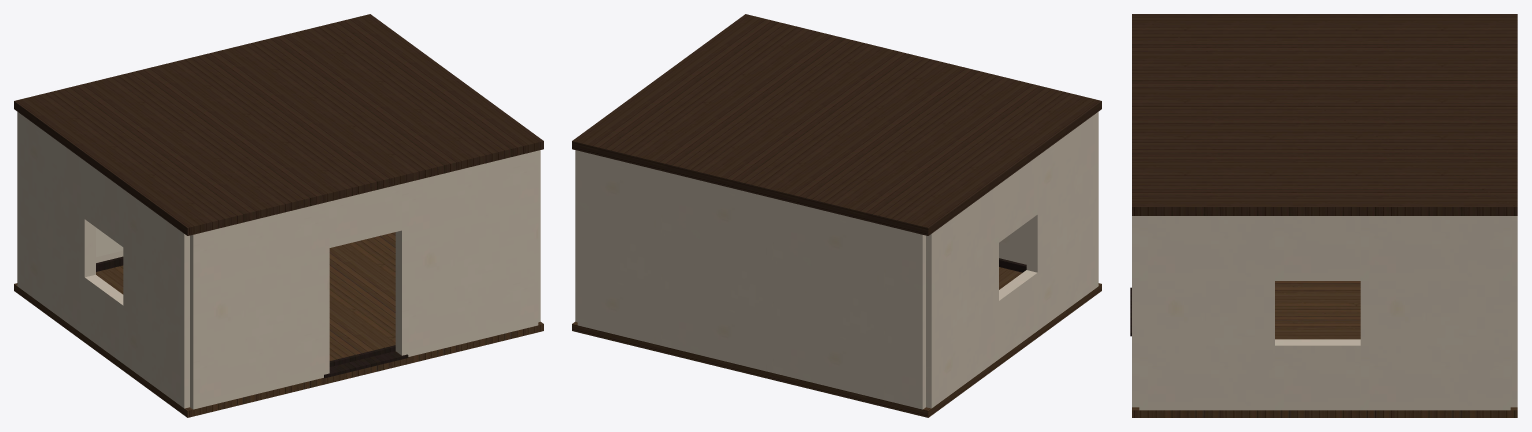
Rendered from int_hanok_01.glb.
The picture shows the model from 3 angles, left to right: view 1: azimuth 30°, elevation 25°; view 2: azimuth 150°, elevation 25°; view 3: azimuth 270°, elevation 25°; orthographic projection. The views are drawn at different scales.
Parts seen in each view (by area): view 1: int_hanok_01; view 2: int_hanok_01; view 3: int_hanok_01.
Part boxes in pixels (bbox=[...]): int_hanok_01: bbox=[14, 14, 543, 417]; int_hanok_01: bbox=[572, 14, 1101, 417]; int_hanok_01: bbox=[1130, 14, 1517, 417].
Size of the model in its own units: 6.4 by 3.26 by 5.42.
Materials: 6 (5 with a texture image).
